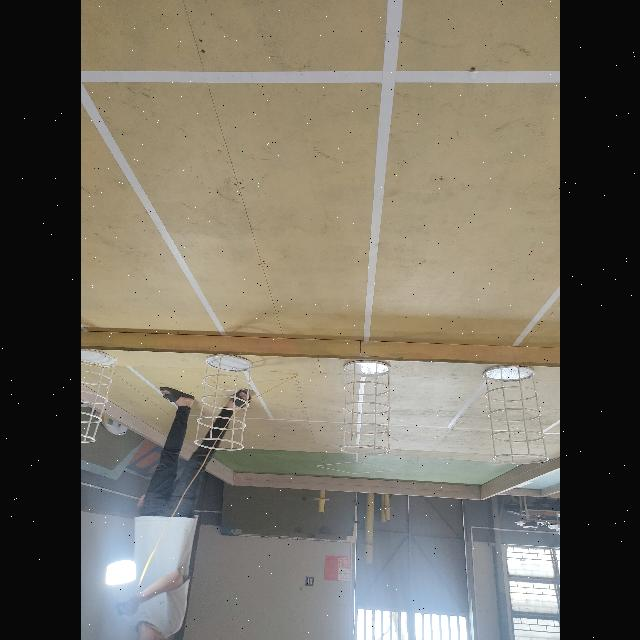S: (481, 363, 547, 465), (191, 352, 253, 453), (338, 358, 392, 456), (80, 347, 119, 444)
